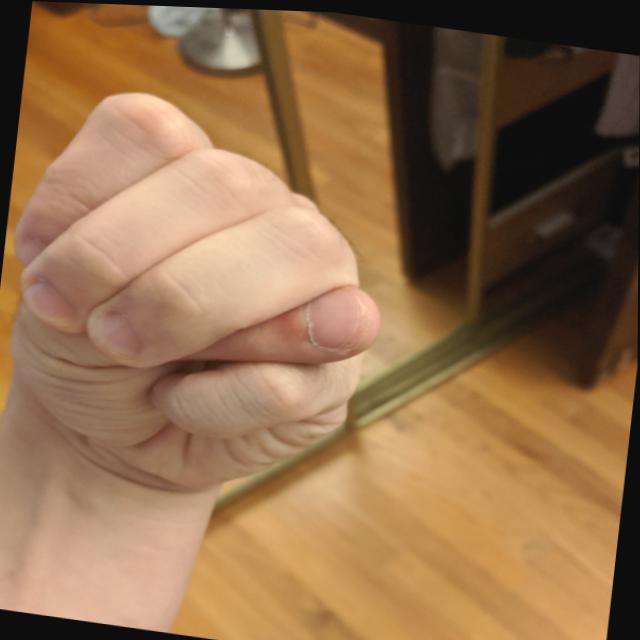M: (0, 68, 420, 516)
